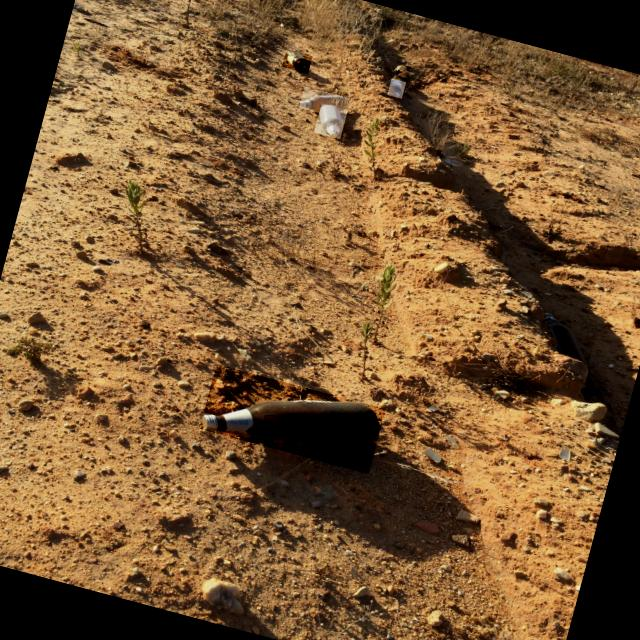Bottle cap: (201, 415, 216, 431), (330, 132, 337, 138), (299, 102, 304, 107)
Glass bottle: (201, 400, 379, 446), (544, 313, 588, 365), (299, 95, 346, 112), (318, 105, 342, 137), (284, 50, 309, 72), (391, 79, 402, 98)
Unlabeled litter: (396, 65, 407, 81)
